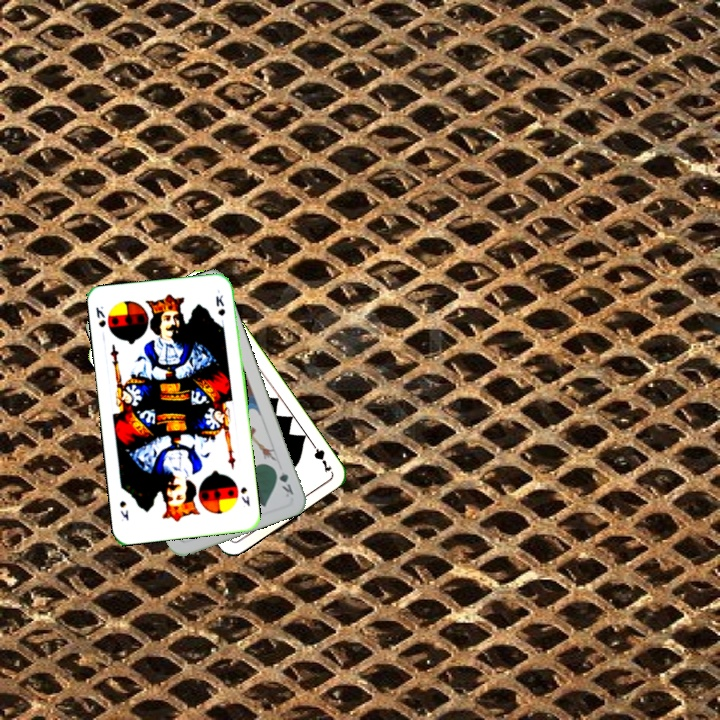G7: (306, 437, 334, 475)
GK: (270, 463, 296, 500)
SK: (92, 302, 108, 330), (237, 483, 252, 509)
